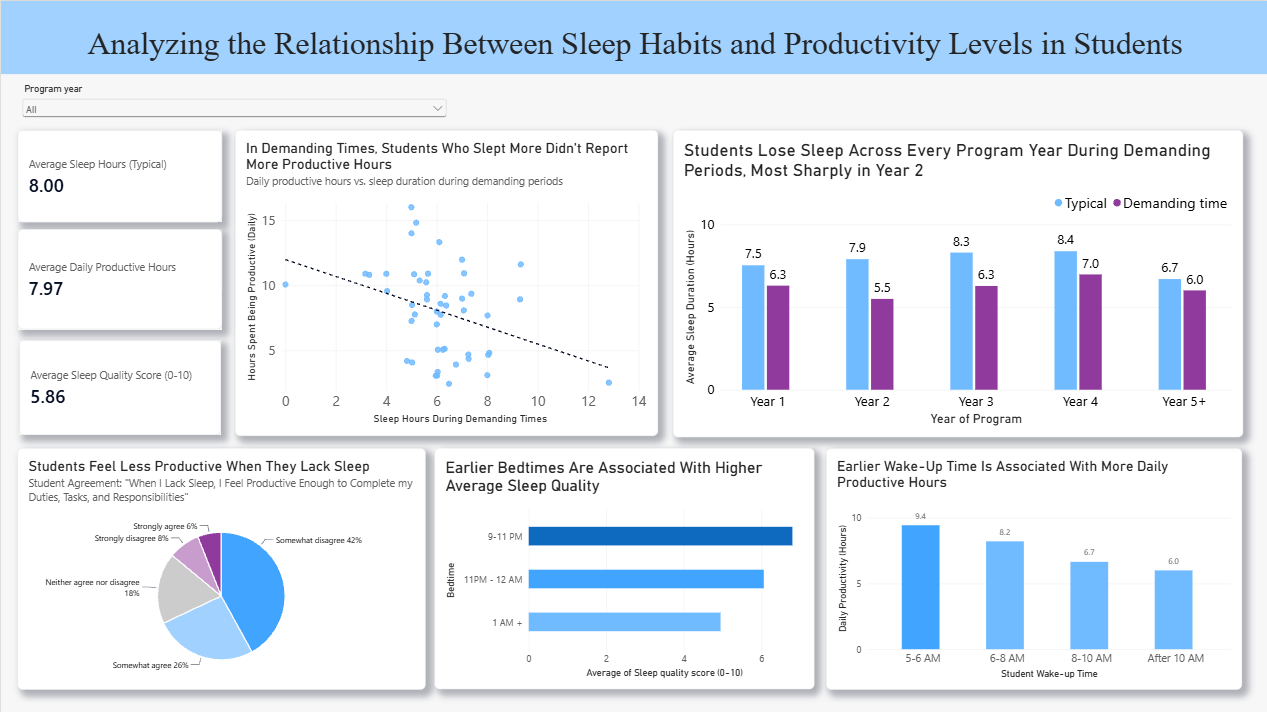

What the dashboard file says about the page in this screenshot:
{"tool":"powerbi","page":{"name":"DASHBOARD","canvas":[1920,1080],"ordinal":0},"visuals":[{"type":"pieChart","title":"Students Feel Less Productive When They Lack Sleep","fields":{"Category":["Survey_Responses_Clean1.Rate your agreement with the following statements: - When I lack sleep, I feel productive enough"],"Y":["CountNonNull(Survey_Responses_Clean1.Rate your agreement with the following statements: - When I lack sleep, I feel prod"]},"box":[25,676.8,617.8,365.7],"z":0},{"type":"textbox","box":[0,0,1920.1,110.4],"z":1000},{"type":"clusteredColumnChart","title":"Earlier Wake-Up Time Is Associated With More Daily Productive Hours","fields":{"Category":["Survey_Responses_Clean1.Wake up time"],"Y":["Avg(Survey_Responses_Clean1.Daily productive hours)"]},"box":[1250,676,630,366],"z":2000},{"type":"scatterChart","title":"In Demanding Times, Students Who Slept More Didn''t Report More Productive Hours","fields":{"Category":["Survey_Responses_Clean1.Respondent ID"],"X":["Avg(Survey_Responses_Clean1.Sleep hours - demanding time)"],"Y":["Avg(Survey_Responses_Clean1.Daily productive hours)"]},"box":[354.3,195.3,640.5,463.3],"z":3000},{"type":"clusteredColumnChart","title":"Students Lose Sleep Across Every Program Year During Demanding Periods, Most Sharply in Year 2","fields":{"Category":["Survey_Responses_Clean1.Program year"],"Y":["Avg(Survey_Responses_Clean1.Sleep hours typical)","Avg(Survey_Responses_Clean1.Sleep hours - demanding time)"]},"box":[1017.5,195.3,863.1,465.6],"z":4000},{"type":"slicer","fields":{"Values":["Survey_Responses_Clean1.Program year"]},"box":[28,126,652,94],"z":5000},{"type":"cardVisual","fields":{"Data":["Avg(Survey_Responses_Clean1.Sleep hours typical)"]},"box":[24,196,310,140],"z":7000},{"type":"cardVisual","fields":{"Data":["Avg(Survey_Responses_Clean1.Daily productive hours)"]},"box":[25,345,310,152.5],"z":8000},{"type":"cardVisual","fields":{"Data":["Avg(Survey_Responses_Clean1.Sleep quality score (0-10))"]},"box":[28,514,306,144],"z":9000},{"type":"clusteredBarChart","title":"Earlier Bedtimes Are Associated With Higher Average Sleep Quality","fields":{"Category":["Survey_Responses_Clean1.Bedtime"],"Y":["Avg(Survey_Responses_Clean1.Sleep quality score (0-10))"]},"box":[657.5,677.5,575,365],"z":9001}]}

Visuals, with their boxes in screenshot pixels (x1, y1, x2, y2), scaled from the page's 1920x1080 canvas onto the 1267x712 screenshot:
"Students Feel Less Productive When They Lack Sleep" pieChart: <region>16, 446, 424, 687</region>
textbox: <region>0, 0, 1266, 73</region>
"Earlier Wake-Up Time Is Associated With More Daily Productive Hours" clusteredColumnChart: <region>825, 446, 1241, 687</region>
"In Demanding Times, Students Who Slept More Didn''t Report More Productive Hours" scatterChart: <region>234, 129, 656, 434</region>
"Students Lose Sleep Across Every Program Year During Demanding Periods, Most Sharply in Year 2" clusteredColumnChart: <region>671, 129, 1241, 436</region>
slicer - Survey_Responses_Clean1.Program year: <region>18, 83, 449, 145</region>
cardVisual - Avg(Survey_Responses_Clean1.Sleep hours typical): <region>16, 129, 220, 222</region>
cardVisual - Avg(Survey_Responses_Clean1.Daily productive hours): <region>16, 227, 221, 328</region>
cardVisual - Avg(Survey_Responses_Clean1.Sleep quality score (0-10)): <region>18, 339, 220, 434</region>
"Earlier Bedtimes Are Associated With Higher Average Sleep Quality" clusteredBarChart: <region>434, 447, 813, 687</region>
